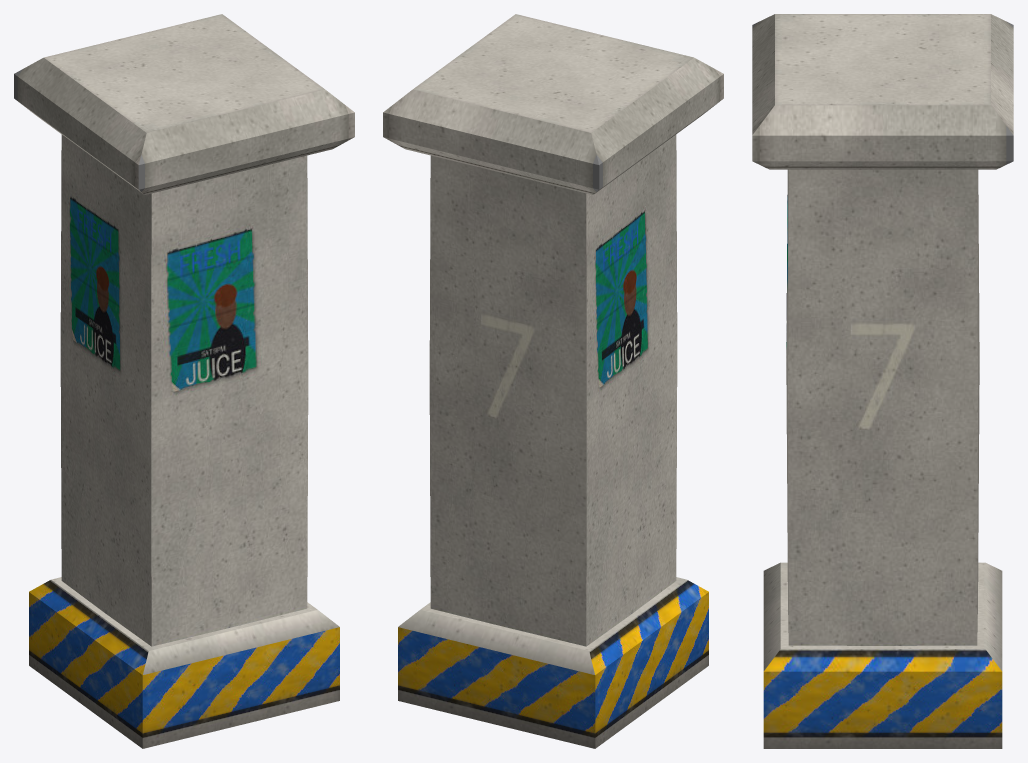
The model's file is env_wall_corner-5i9xcggi.glb.
3 views of the same model, side by side, from view 1: azimuth 30°, elevation 25°; view 2: azimuth 150°, elevation 25°; view 3: azimuth 270°, elevation 25° (orthographic). The views are drawn at different scales.
Visible parts, largest first — view 1: env_wall_corner_body; view 2: env_wall_corner_body; view 3: env_wall_corner_body.
Part boxes in pixels (box(x1,y1,x2,y2)): env_wall_corner_body: box(14, 14, 354, 748); env_wall_corner_body: box(383, 14, 723, 748); env_wall_corner_body: box(752, 14, 1013, 748).
Size of the model in its own units: 0.46 by 1.24 by 0.46.
Materials: 1 (1 with a texture image).
